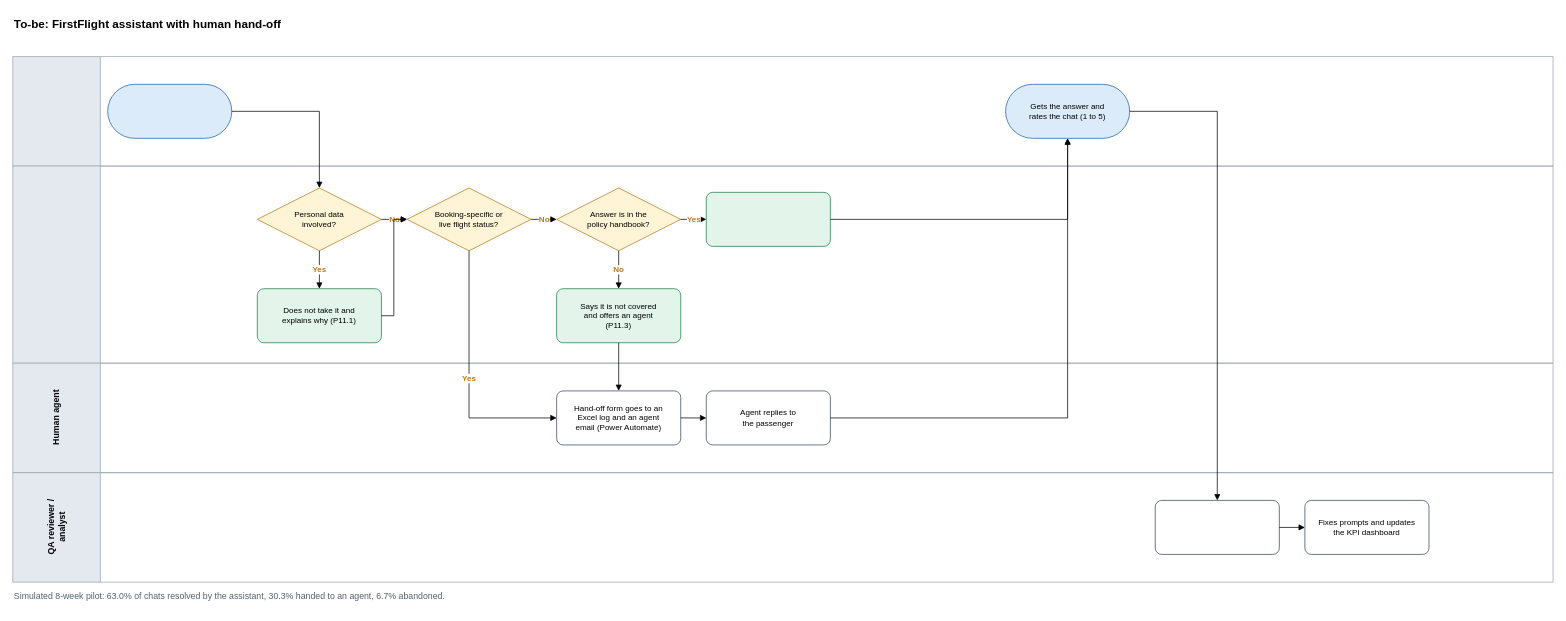
The diagram is 1566 pixels wide and 621 high, and some of its shapes have lost their labels. The shapes that lost their labels are listed below. From the top down, each one's box as (x1, y1, x2, y2) in pixels, then its label:
(107, 84, 232, 138): Asks in English, Hindi or Arabic (web, app, WhatsApp)
(12, 56, 1553, 166): Passenger
(706, 192, 830, 246): Answers in the passenger's language from the handbook
(12, 165, 1553, 363): FirstFlight assistant
(1154, 500, 1279, 554): Reviews a 6% sample of AI answers each week
